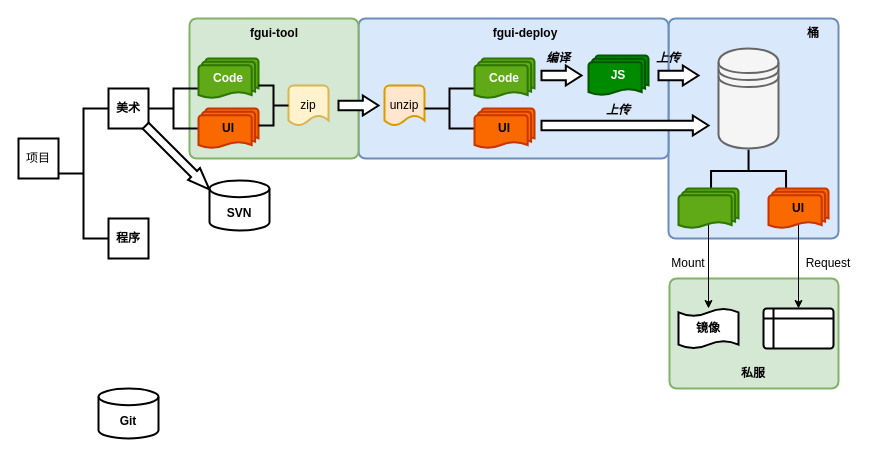
Some shapes in this 875 by 456 pixel diagram are drawn without their labels. The shapes that lost their labels are listed below. From the top down, each one's centre as x and y in pixels, then its label:
At pixel 708 208: "libgen".
At pixel 798 328: "客户端".
